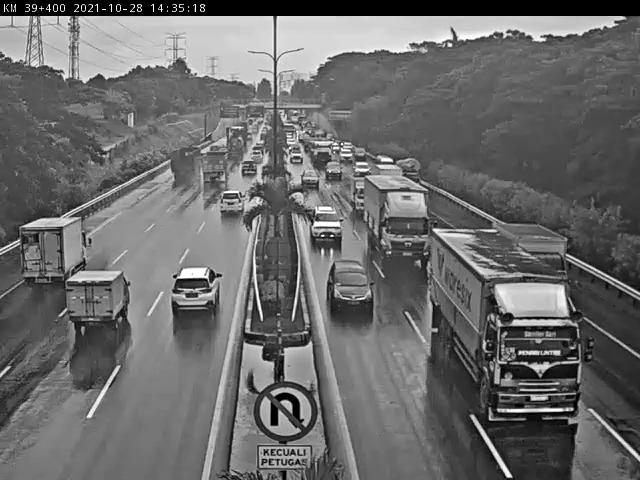big truck: (437, 238, 602, 418), (361, 177, 440, 260), (162, 147, 193, 192), (195, 154, 228, 196)
car: (52, 265, 137, 340), (165, 261, 225, 327), (327, 255, 379, 309), (306, 208, 347, 247), (213, 188, 249, 222), (319, 155, 342, 182), (295, 164, 321, 186), (238, 157, 262, 178), (349, 160, 372, 176), (88, 346, 89, 347)
small truck: (487, 203, 577, 285), (14, 208, 86, 282)
